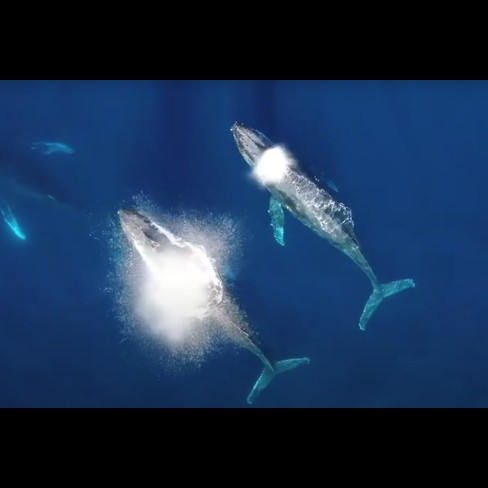hump: (227, 113, 422, 339), (109, 198, 315, 409), (1, 134, 109, 239)
